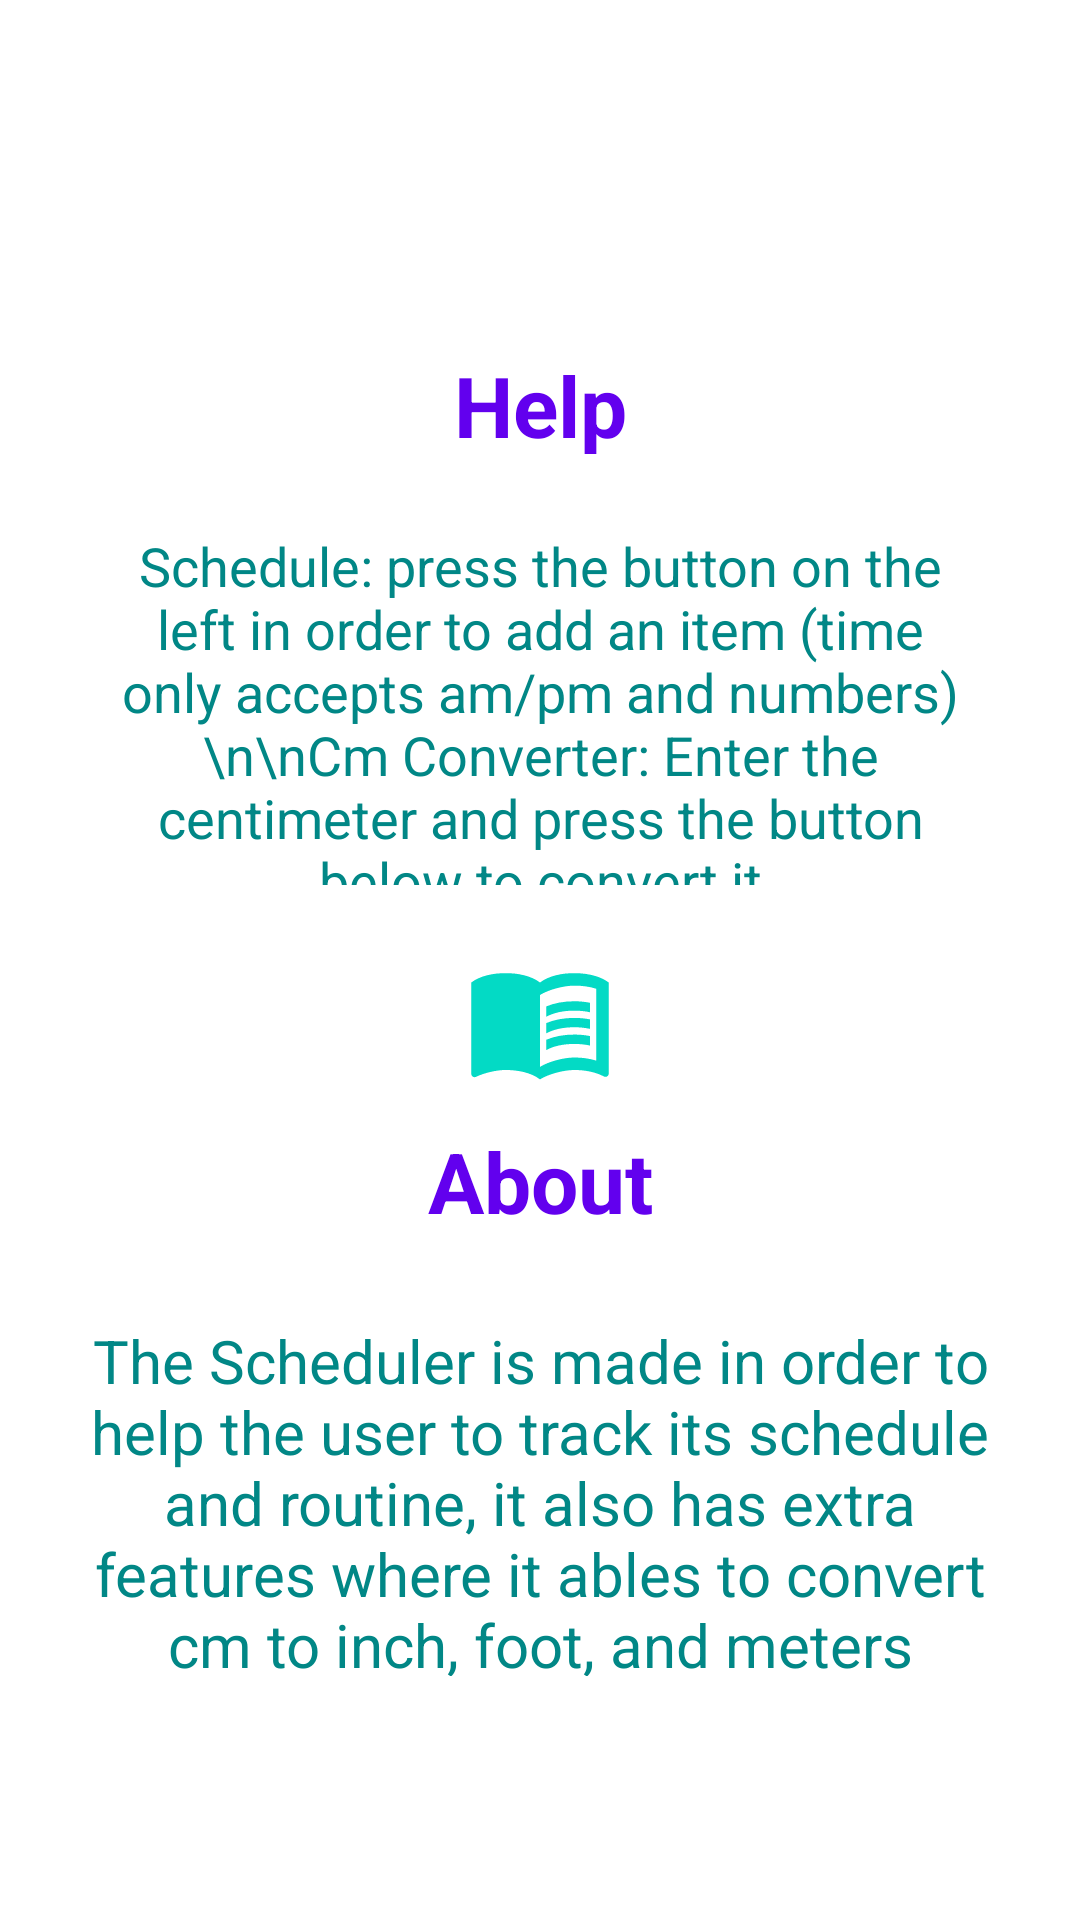

Icons on this 1080×1920 Android screen, each with its box as (x1, y1, x2, y2):
book: (471, 973, 609, 1080)
